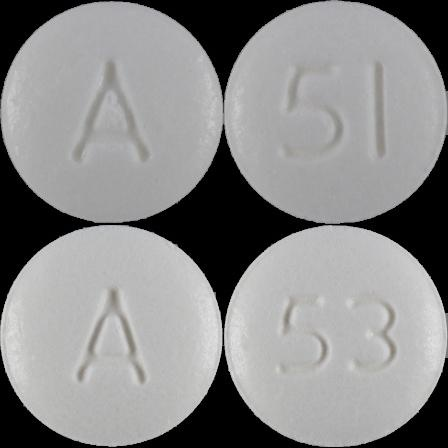65162-751: (0, 0, 224, 224)
